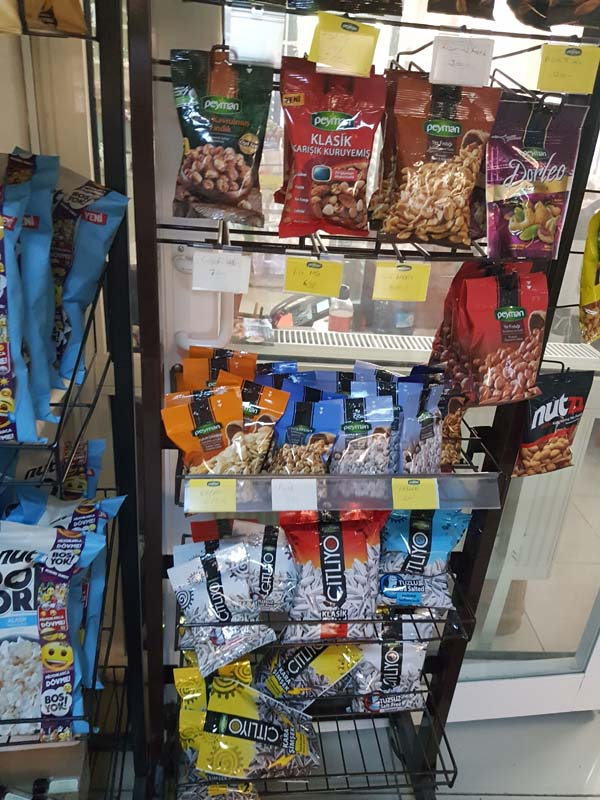citliyorkarasisimsek: (166, 669, 326, 782)
citliyorklasik: (278, 513, 390, 625)
peysankavrulmusfindik: (170, 46, 269, 230)
popcorn: (4, 520, 106, 750)
